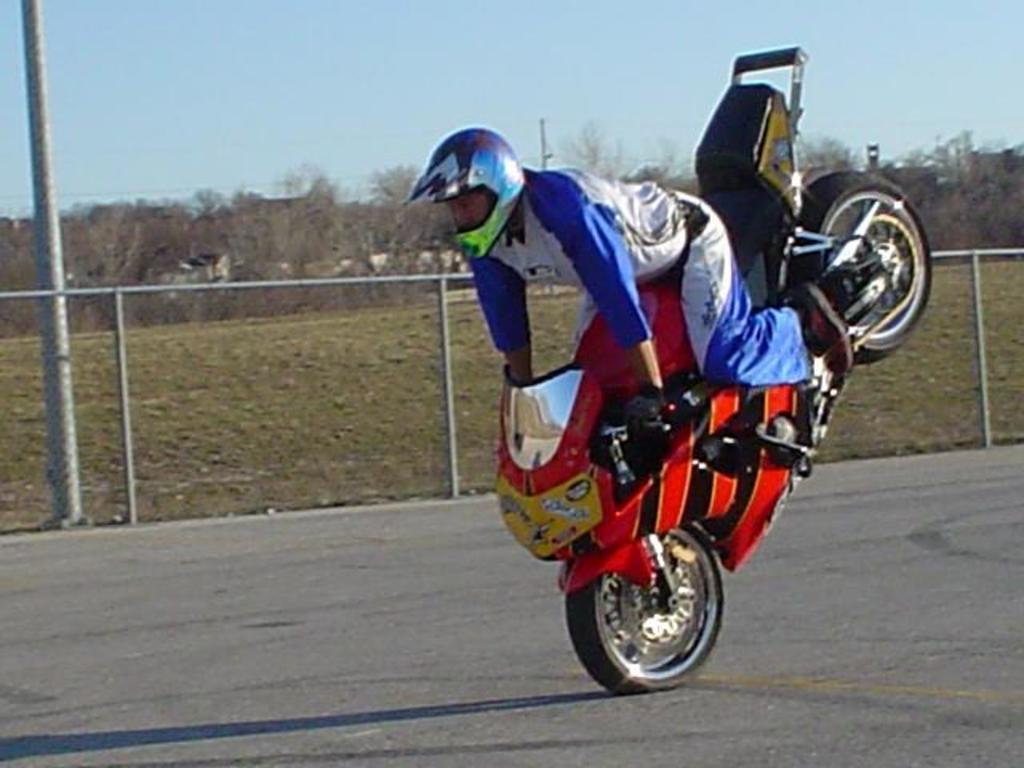helmet: (402, 126, 528, 263)
